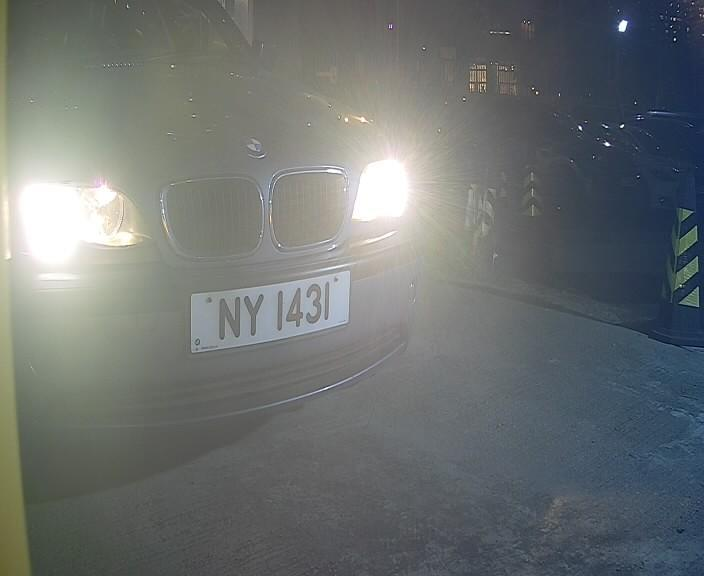privatecar: (2, 13, 435, 424)
